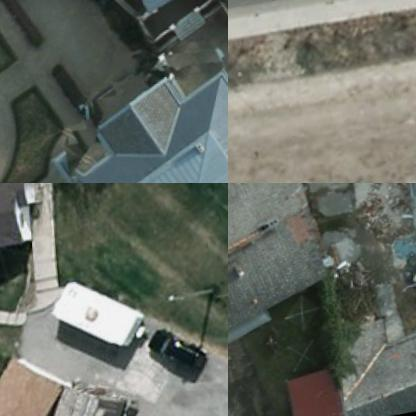camping car: (50, 269, 158, 366)
car: (144, 324, 212, 386)
